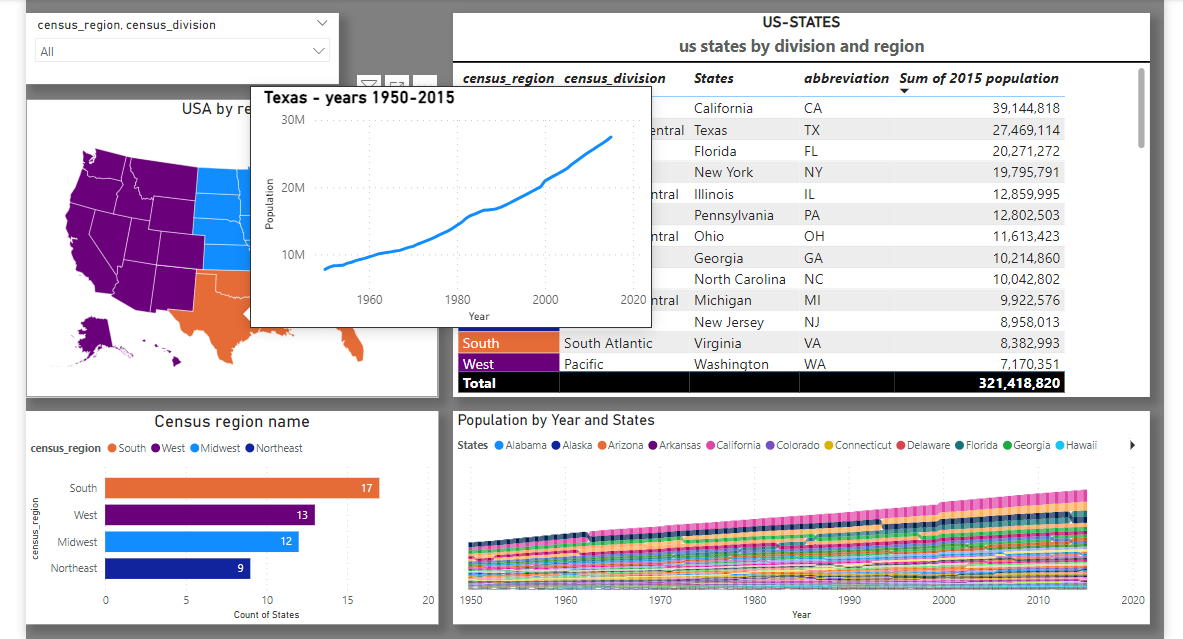

What the dashboard file says about the page in this screenshot:
{"tool":"powerbi","page":{"name":"Overview","canvas":[1280,720],"ordinal":0},"visuals":[{"type":"tableEx","title":"US-STATES","fields":{"Values":["us-states.census_region_name","us-states.census_division_name","us-states.States","us-states.abbreviation","us-states.2015 population"]},"box":[480,16,784,432],"z":0},{"type":"shapeMap","title":"USA by  region","fields":{"Category":["us-states.States"],"Series":["us-states.census_region_name"],"Value":["CountNonNull(us-states.census_region_name)"]},"box":[0,112,464,336],"z":1000},{"type":"barChart","title":"Census region name","fields":{"Y":["CountNonNull(us-states.States)"],"Category":["us-states.census_region_name"],"Series":["us-states.census_region_name"]},"box":[0,464,464,240],"z":2000},{"type":"slicer","fields":{"Values":["us-states.Census Areas.census_region","us-states.Census Areas.census_division"]},"box":[0,16,352,80],"z":3000},{"type":"ribbonChart","fields":{"Category":["states-population.Year"],"Series":["us-states.States"],"Y":["_measures.Population"]},"box":[480,464,784,240],"z":4000}]}

Visuals, with their boxes on the page's 1280x720 design canvas (x1, y1, x2, y2). These are canvas units, not pixel positions in the 1183x639 screenshot, which may show the page scaled, cropped or inside an application window:
"US-STATES" tableEx: 480:16:1264:448
"USA by  region" shapeMap: 0:112:464:448
"Census region name" barChart: 0:464:464:704
slicer - us-states.Census Areas.census_region x us-states.Census Areas.census_division: 0:16:352:96
ribbonChart - states-population.Year x us-states.States: 480:464:1264:704
